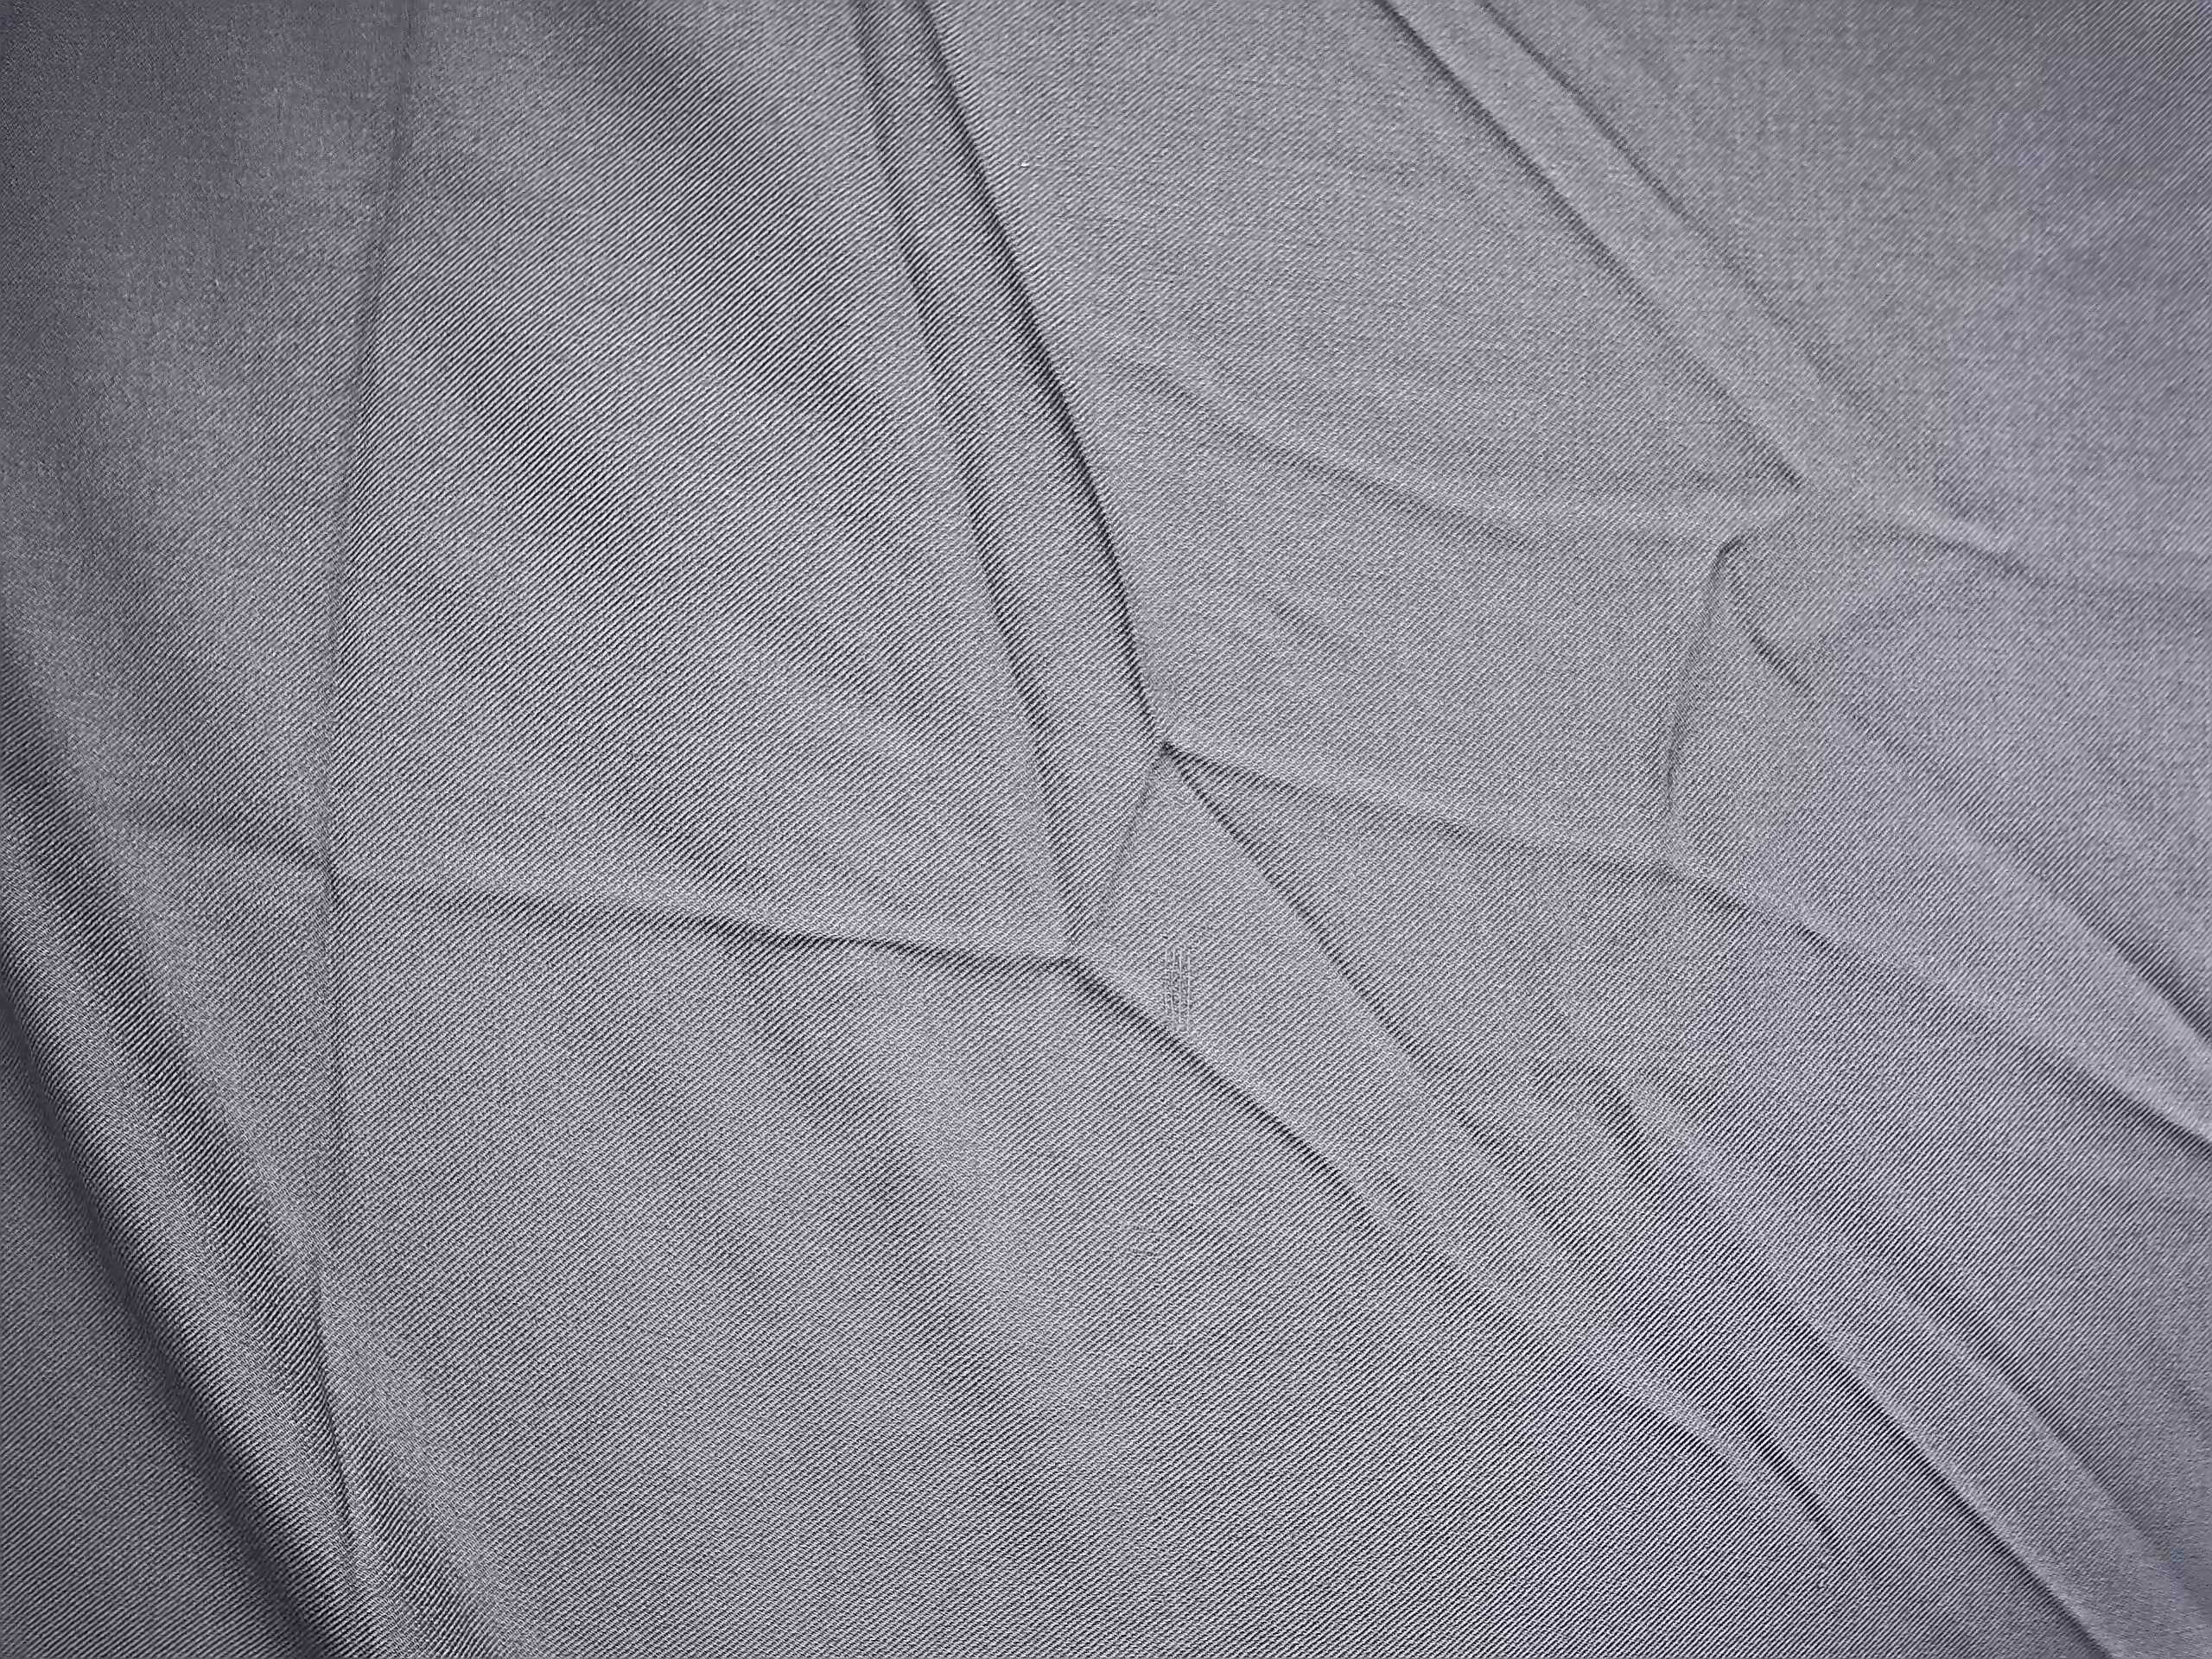jumps: (1109, 897, 1266, 1070)
